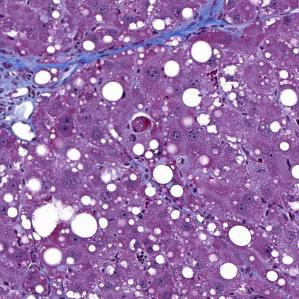fibrosis: (1, 52, 83, 114), (168, 3, 241, 41)
